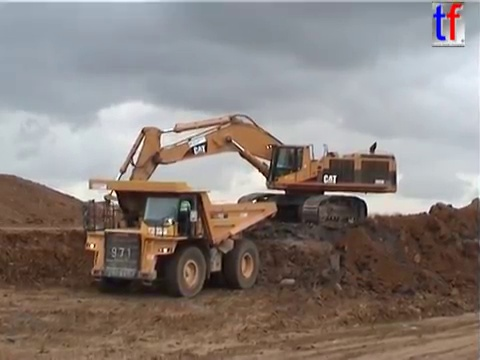excavator: (99, 111, 400, 249)
truck: (81, 176, 279, 298)
worker: (176, 194, 192, 237)
